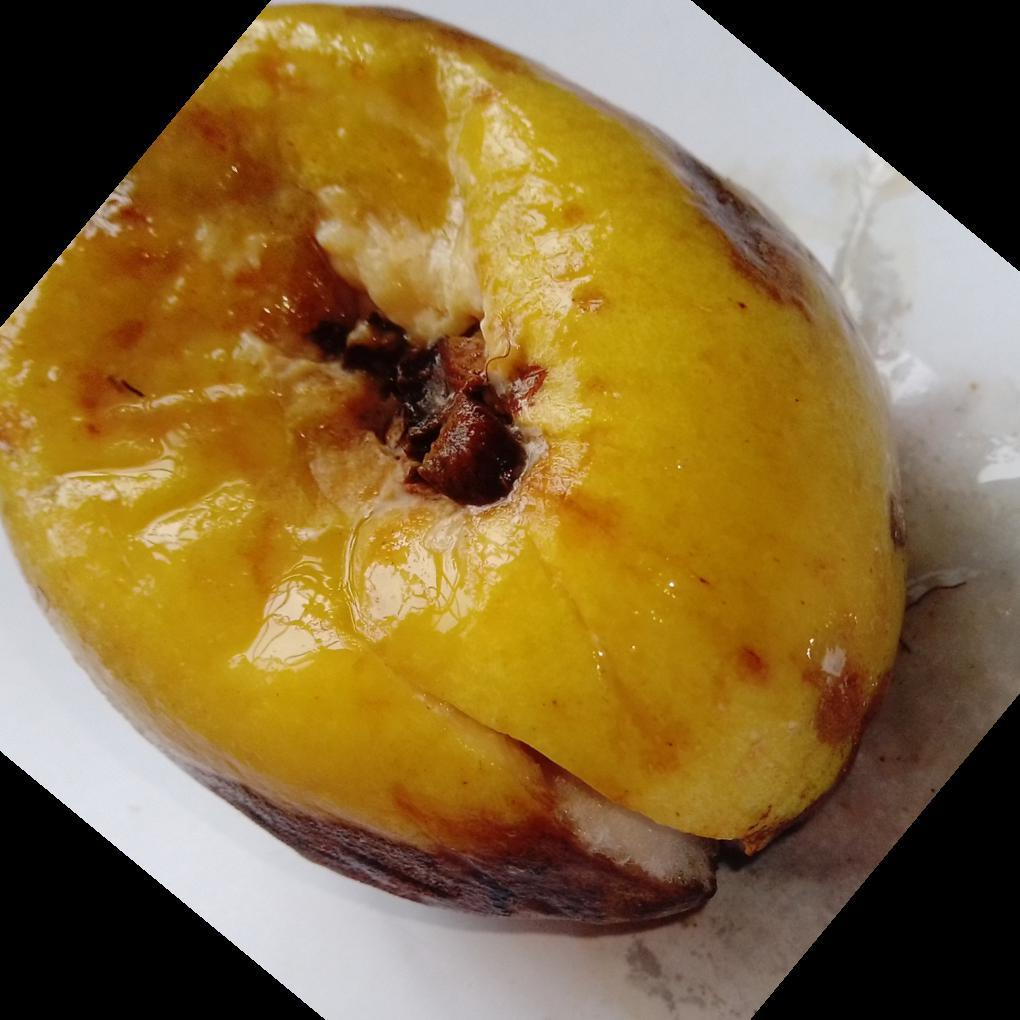FreshOrange: (0, 5, 908, 943)
